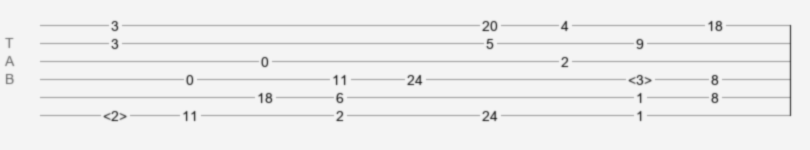0: (186, 72, 194, 82), (261, 54, 269, 64)
1: (636, 108, 644, 118), (636, 90, 644, 100)
11: (182, 108, 198, 118), (332, 72, 348, 82)
18: (257, 90, 273, 100), (707, 18, 723, 28)
2: (336, 108, 344, 118), (561, 54, 569, 64)
20: (482, 18, 498, 28)
24: (407, 72, 423, 82), (482, 108, 498, 118)
3: (111, 36, 119, 46), (111, 18, 119, 28)
4: (561, 18, 569, 28)
5: (486, 36, 494, 46)
6: (336, 90, 344, 100)
8: (711, 72, 719, 82), (711, 90, 719, 100)
9: (636, 36, 644, 46)
harmonic: (103, 108, 127, 118), (628, 72, 652, 82)
